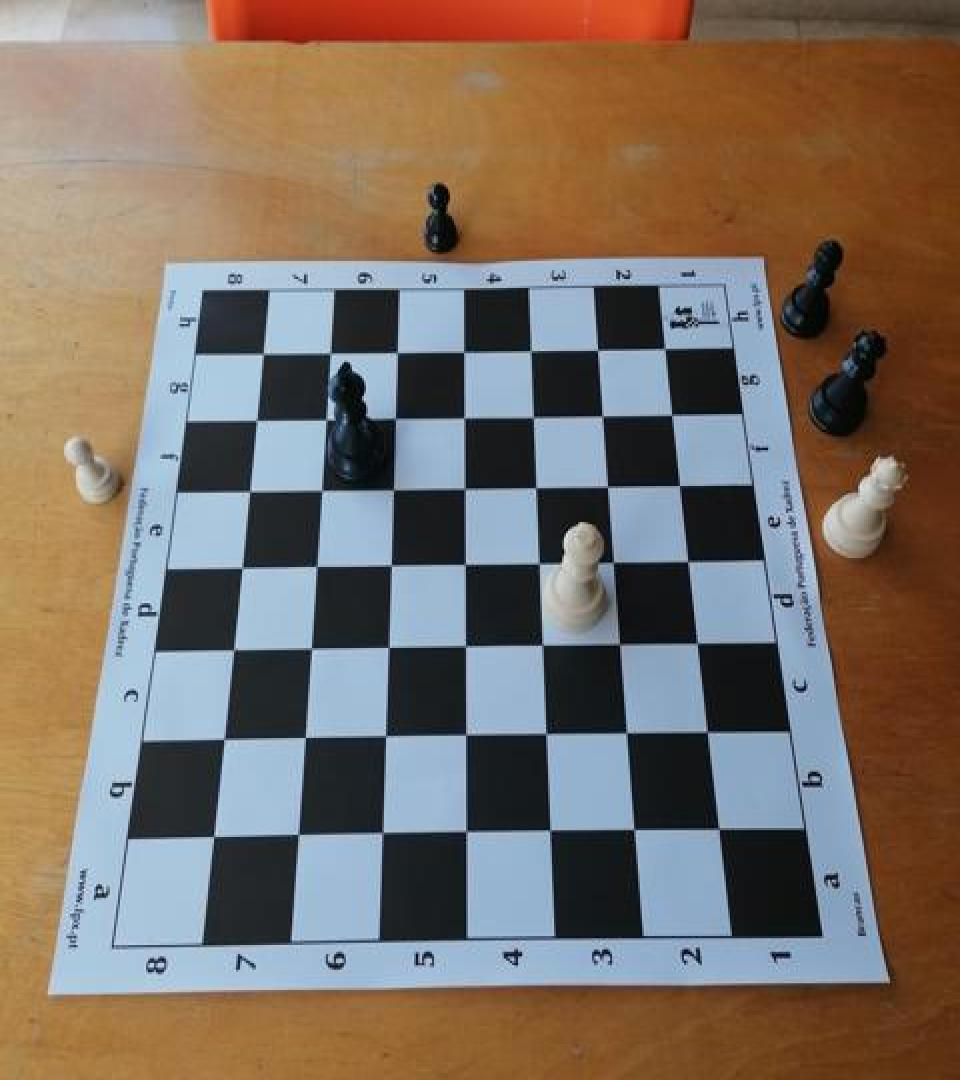xcorner: (198, 820, 228, 854), (283, 819, 313, 853), (368, 818, 398, 852), (453, 816, 483, 850), (538, 816, 568, 850), (623, 814, 653, 848), (707, 813, 737, 847), (208, 722, 238, 756), (289, 721, 319, 755), (371, 720, 401, 754), (452, 719, 482, 753), (533, 718, 563, 752), (614, 716, 644, 750), (217, 632, 247, 666), (295, 631, 325, 665), (373, 630, 403, 664), (451, 629, 481, 663), (607, 626, 637, 660), (684, 626, 714, 660), (225, 549, 255, 583), (300, 548, 330, 582), (375, 546, 405, 580), (450, 546, 480, 580), (525, 544, 555, 578), (600, 544, 630, 578), (674, 543, 704, 577), (233, 472, 263, 506), (305, 471, 335, 505), (377, 470, 407, 504), (449, 469, 479, 503), (521, 468, 551, 502), (593, 468, 623, 502), (665, 467, 695, 501), (240, 402, 270, 436), (310, 400, 340, 434), (379, 399, 409, 433), (448, 398, 478, 432), (518, 397, 548, 431), (587, 397, 617, 431), (656, 396, 686, 430), (247, 335, 277, 369), (314, 334, 344, 368), (381, 333, 411, 367), (448, 332, 478, 366), (515, 332, 545, 366), (582, 330, 612, 364), (648, 330, 678, 364), (695, 716, 725, 749), (529, 628, 559, 661)
